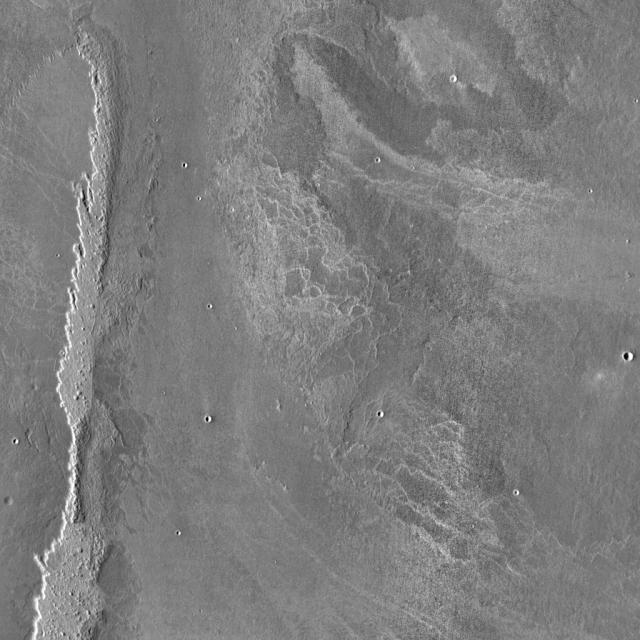crater: (9, 497, 19, 506), (629, 356, 637, 364)
